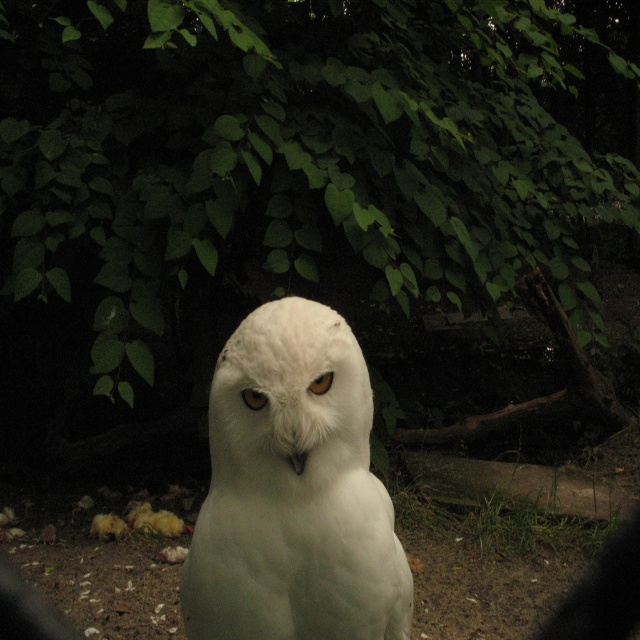Owl: (171, 302, 417, 640)
